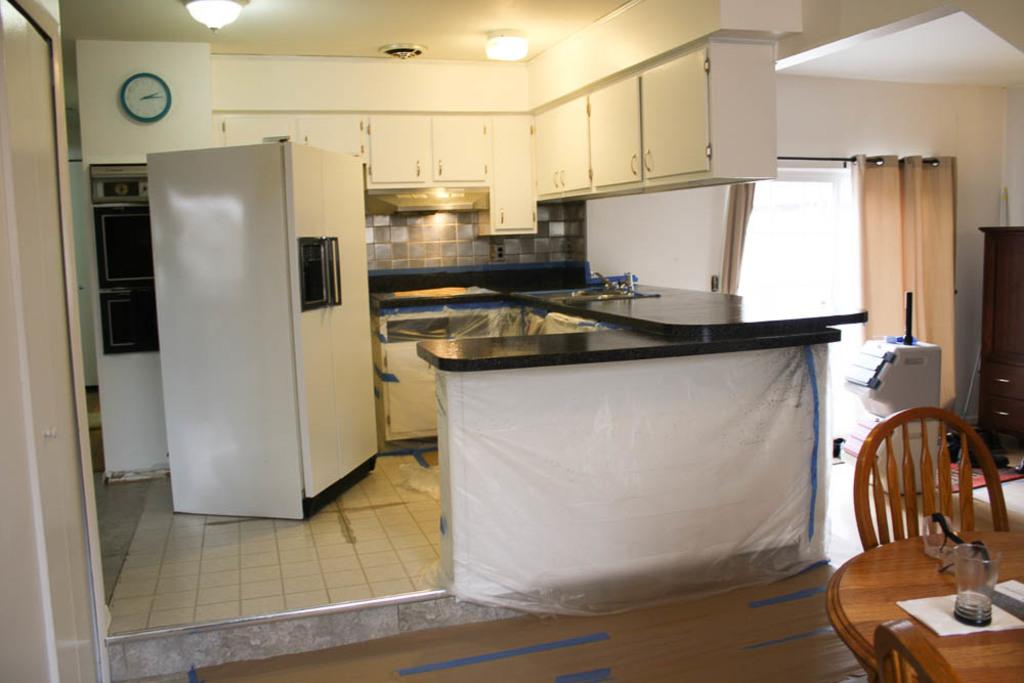cabinet_door: (640, 74, 710, 169), (493, 124, 532, 230), (589, 98, 637, 182), (371, 122, 427, 182), (430, 122, 484, 181), (530, 124, 564, 195), (562, 116, 586, 189)
handle: (318, 243, 334, 304), (640, 146, 658, 174), (625, 158, 641, 176)
